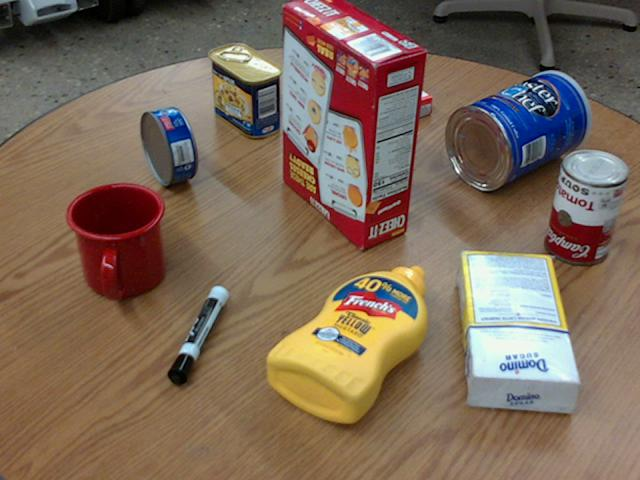cracker_box: (280, 0, 425, 247)
gelatin_box: (348, 70, 431, 127)
large_marker: (167, 285, 227, 384)
master_chef_can: (444, 70, 588, 189)
mug: (66, 183, 165, 300)
mustard_bottle: (265, 264, 426, 424)
potted_meat_can: (207, 44, 281, 137)
sugar_box: (455, 250, 581, 411)
tomato_soup_can: (543, 147, 626, 262)
tuna_fish_can: (141, 107, 196, 185)
